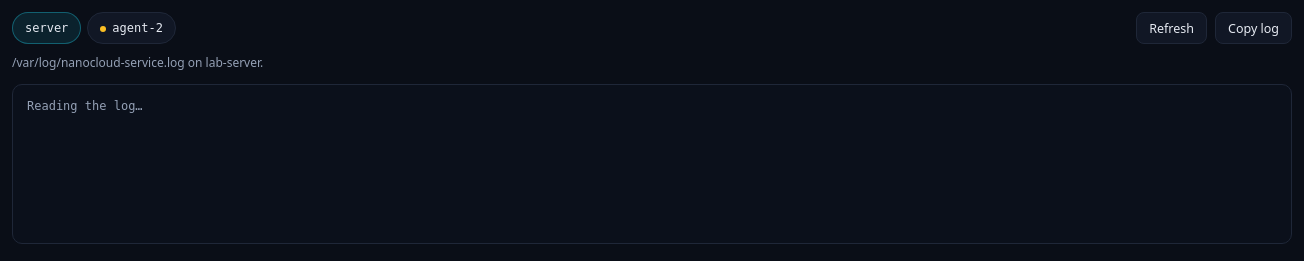
ServiceLogView › marks the machines it cannot reach, and drops an answer for a machine no longer shown
Click the button "agent-2". click: [132, 28]
box: [87,12,176,44]
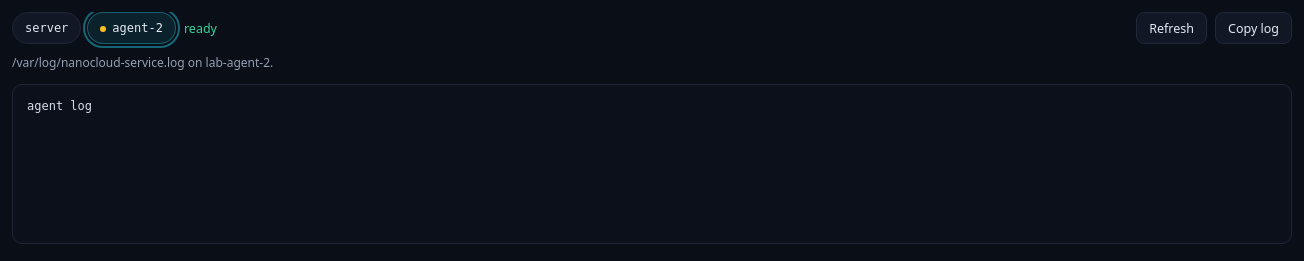
expect the text named "Install log of lab-agent-2" reads "agent log": met, box [27,99,92,113]
